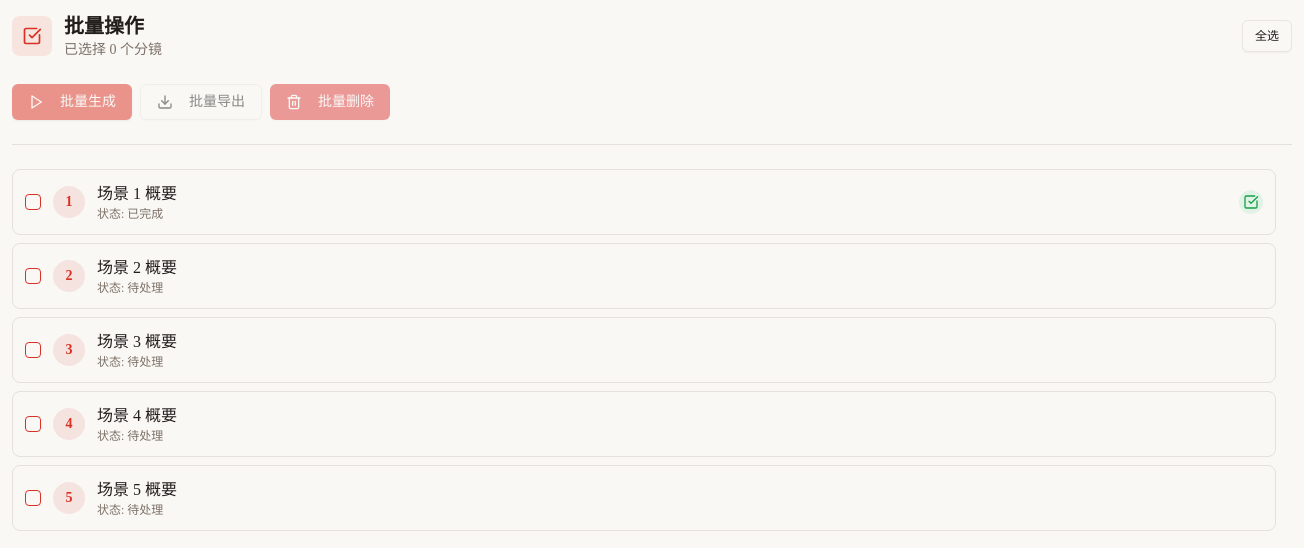
Scenario: BatchOperations › 分镜选择 › 应该能够取消全选
Click the button "全选" at (1267, 36), box [1242,20,1292,52]
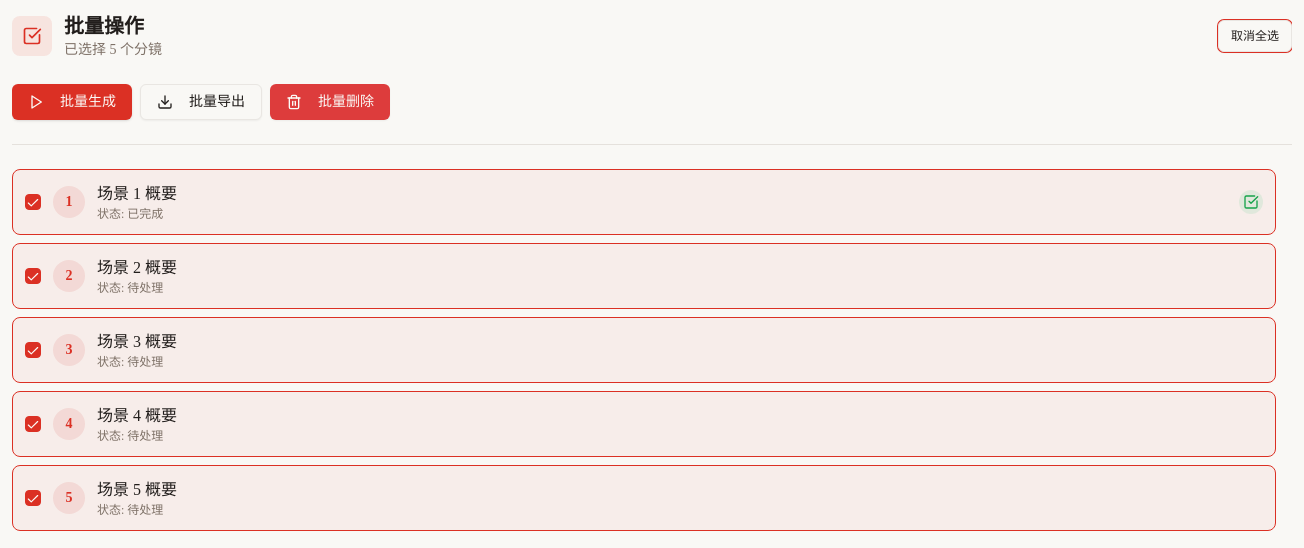
Expected: the text "已选择 5 个分镜" is shown, [64,40,162,60]
Click the button "取消全选" at (1255, 36), box [1218,20,1292,52]
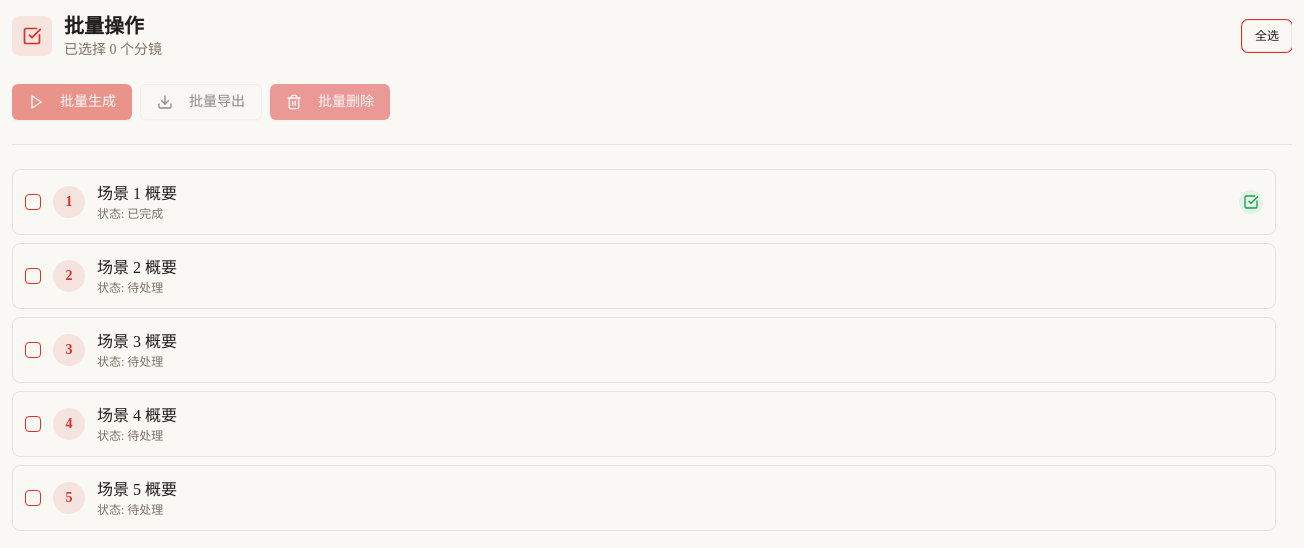
Expected: the text "已选择 0 个分镜" is shown, [64,40,162,60]
